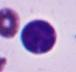L: (20, 18, 56, 54)
